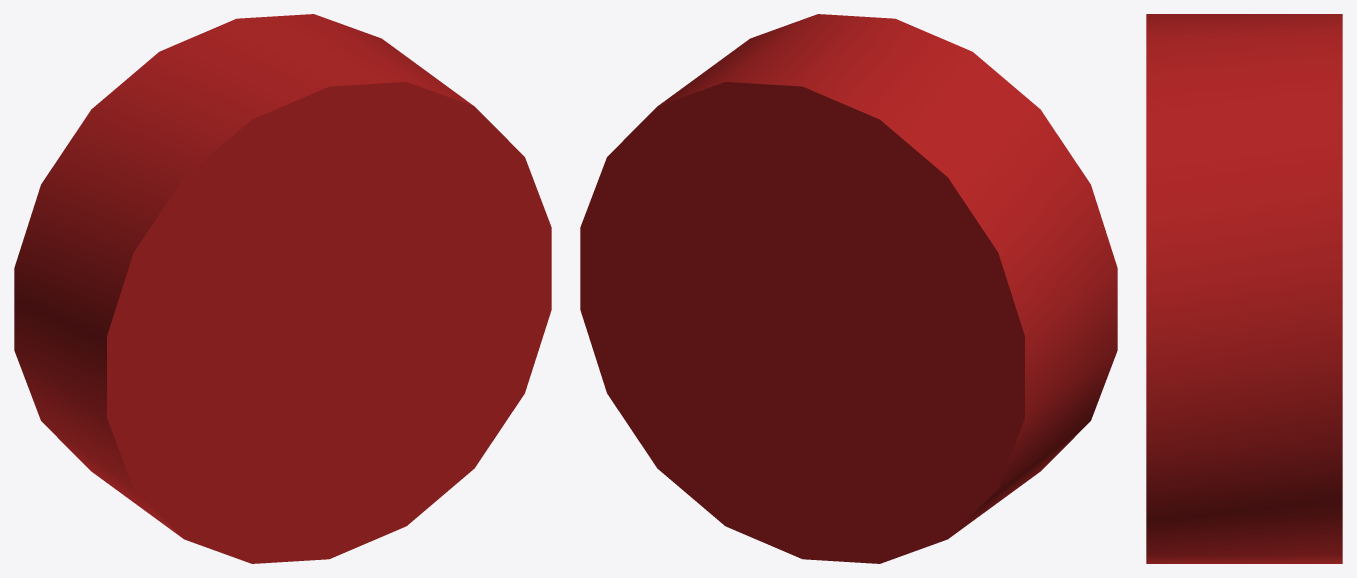
Rendered from front_right_bell.obj.
3 renders of one model, left to right at view 1: azimuth 30°, elevation 25°; view 2: azimuth 150°, elevation 25°; view 3: azimuth 270°, elevation 25°, orthographic. The views are drawn at different scales.
Visible parts, largest first — view 1: front_right_bell; view 2: front_right_bell; view 3: front_right_bell.
Part boxes in pixels (bbox=[...]): front_right_bell: bbox=[14, 14, 551, 563]; front_right_bell: bbox=[580, 14, 1117, 563]; front_right_bell: bbox=[1146, 14, 1342, 563].
Size of the model in its own units: 0.0266 by 0.027 by 0.0096.
